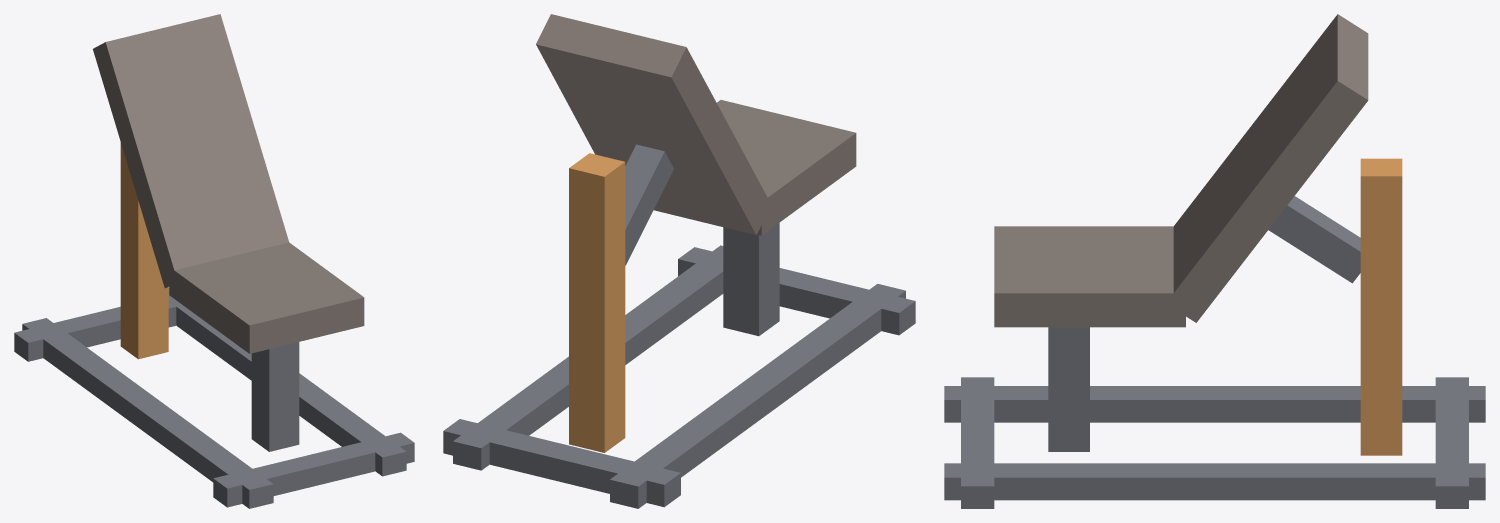
File: incline_bench.glb
3 renders of one model, left to right at view 1: azimuth 30°, elevation 25°; view 2: azimuth 150°, elevation 25°; view 3: azimuth 270°, elevation 25°, orthographic. The views are drawn at different scales.
Visible parts, largest first — view 1: bench; view 2: bench; view 3: bench.
Part boxes in pixels (x1,y1,x2,y2): bench: [14, 14, 414, 508]; bench: [443, 14, 915, 508]; bench: [944, 14, 1485, 508].
Bounding box in the file's own units: 0.62 × 1.08 × 1.3.
